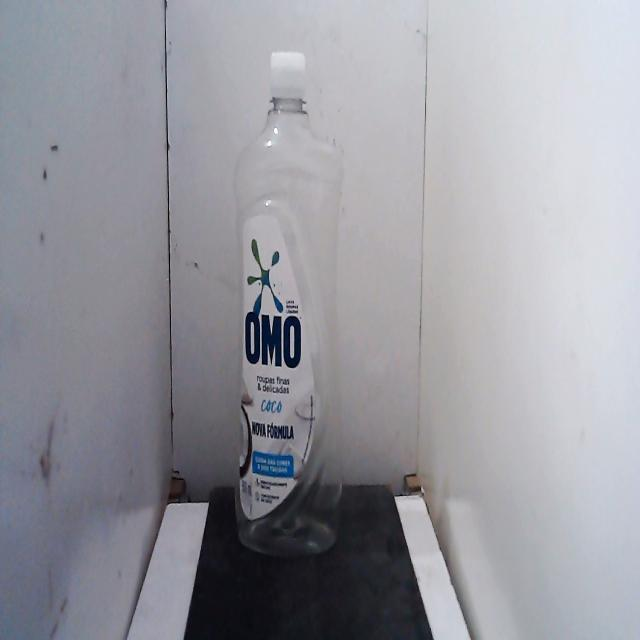plastico: (226, 34, 350, 577)
